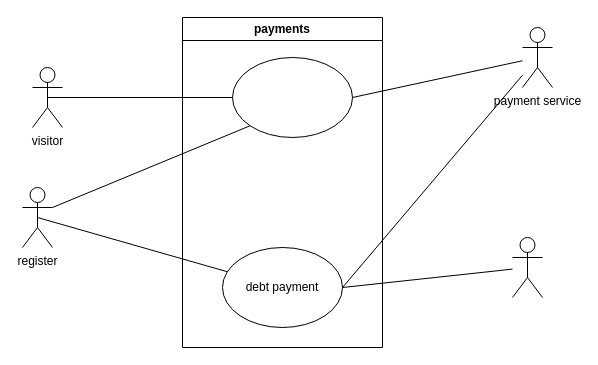
The diagram is 598 pixels wide and 365 high, and some of its shapes have lost their labels. The shapes that lost their labels are listed below. From the top down, each one's centre as x and y in pixels, then its label:
At point (292, 97): "donation".
At point (527, 267): "auth".
